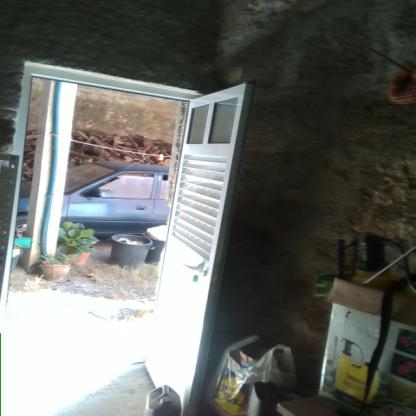open: (2, 56, 262, 410)
